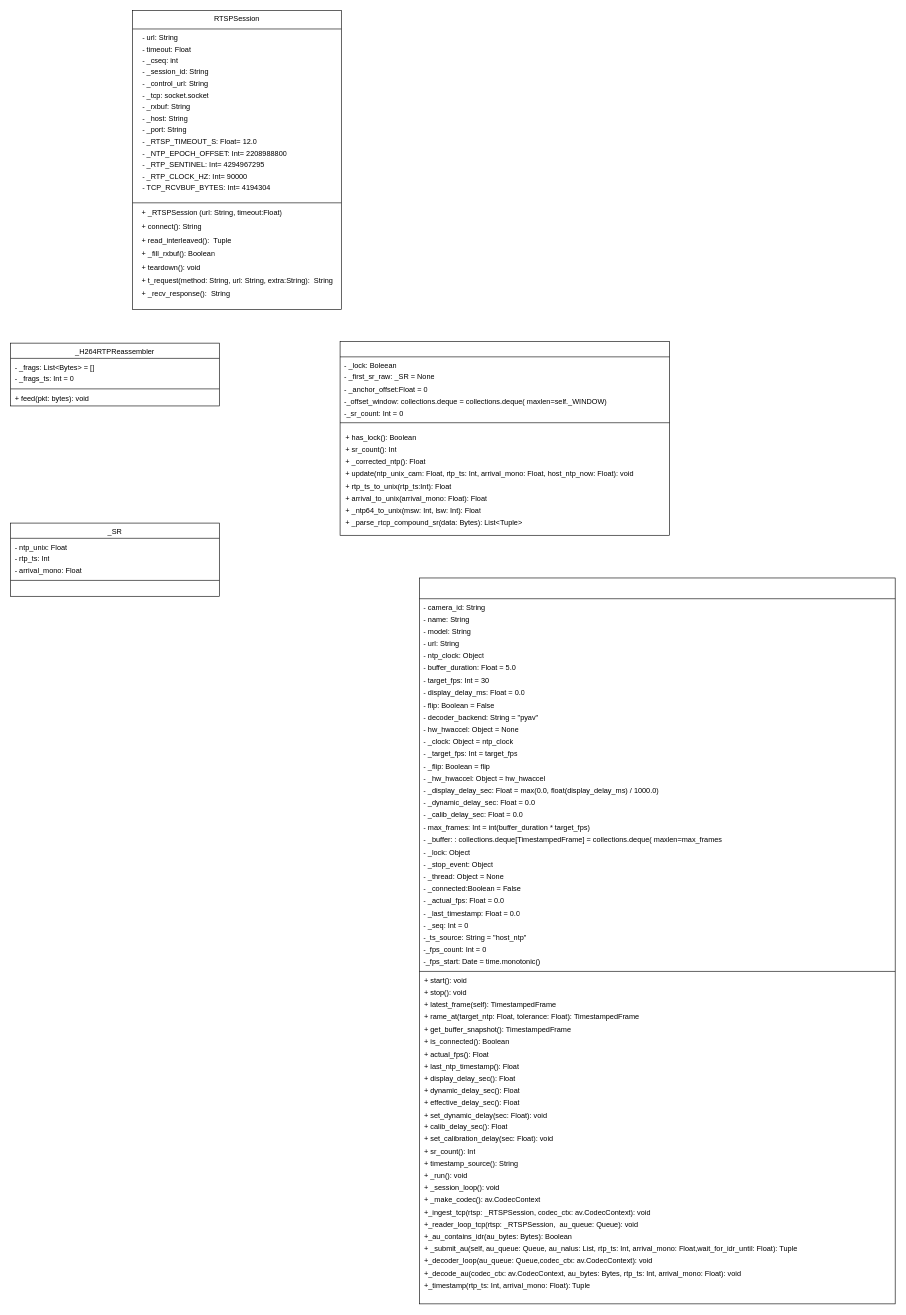
This 906x1315 diagram has some shape labels left out. The box of each missing label's shape, as (x1, y1, x2, y2) in pixels:
_RTCPClock: (339, 341, 669, 535)
RtpCameraStream: (419, 577, 895, 1304)
